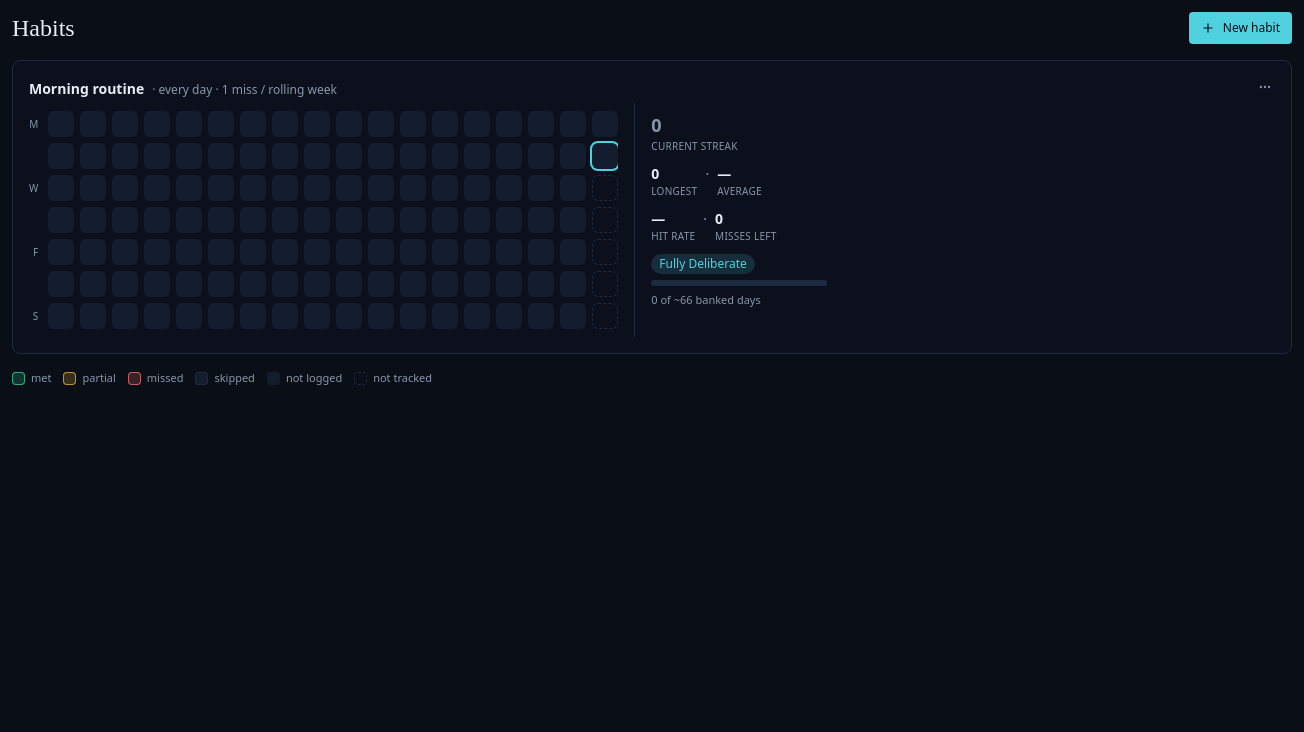
Scenario: HabitsView — archive and the Archived section › moves a habit into the Archived section on the click, with no confirm in the way
Click the button named "Options for Morning routine".
click(1265, 87)  # box x1=1255 y1=77 x2=1275 y2=97
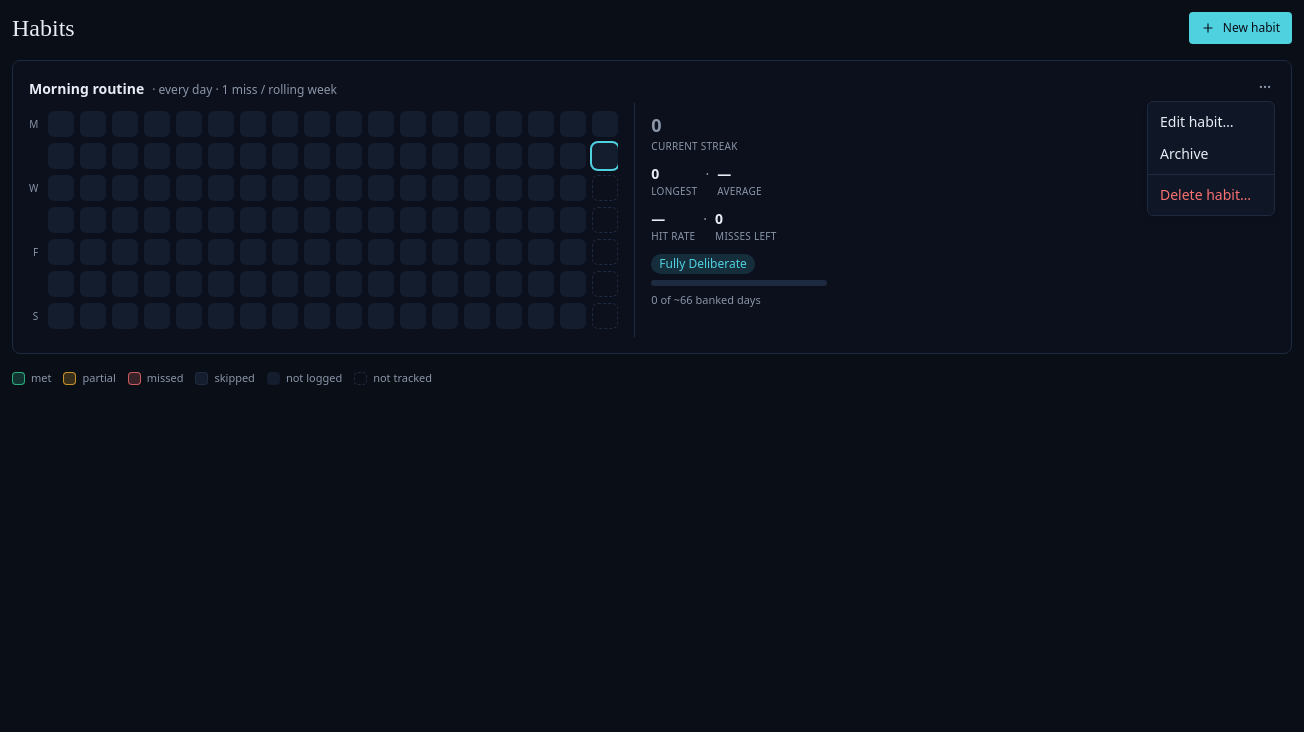
Click the menu item "Archive".
click(1184, 154)  # box x1=1160 y1=144 x2=1208 y2=163
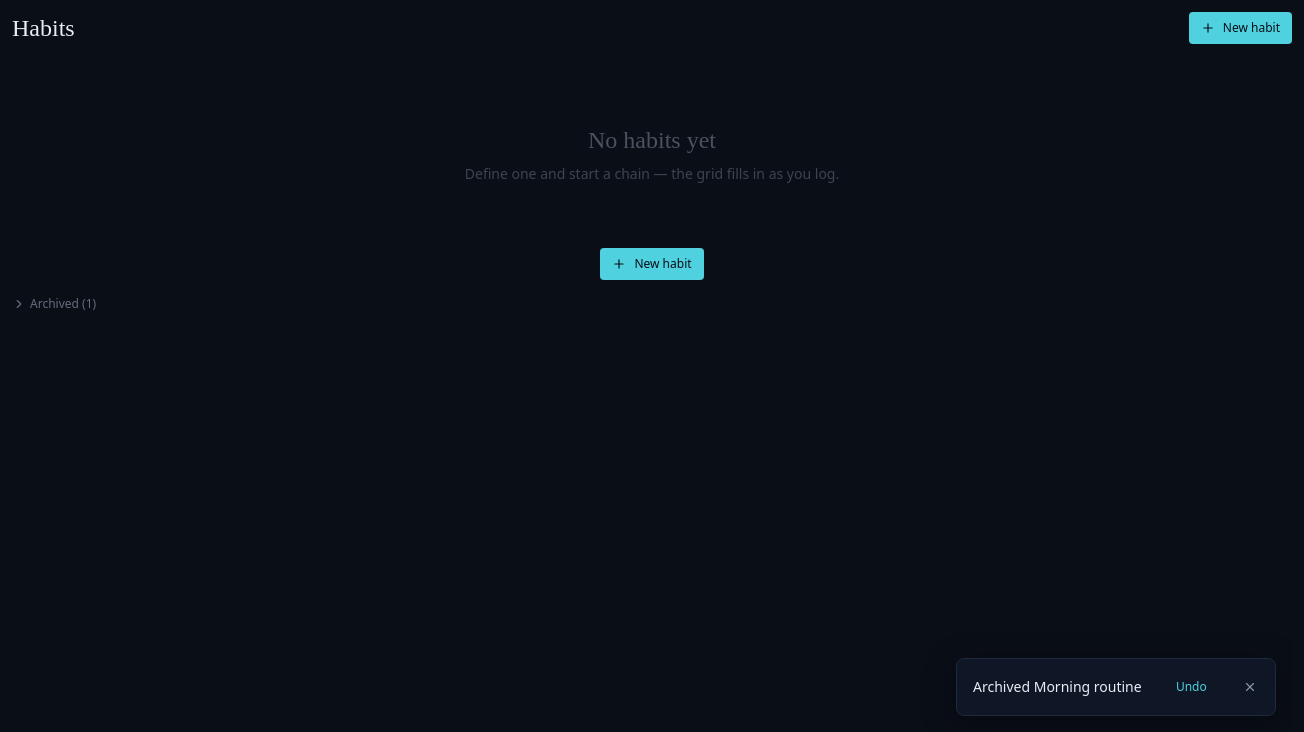
Now the button "Archived (1)" is shown, box x1=12 y1=296 x2=96 y2=312
